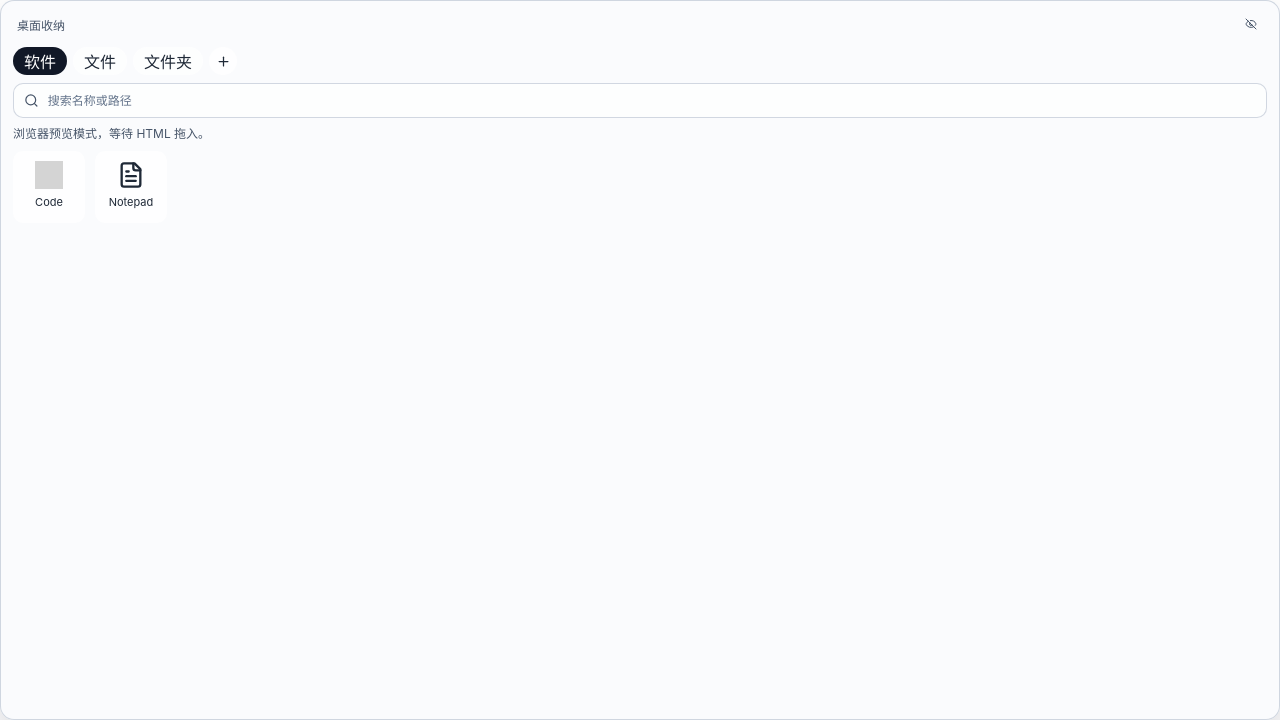
Test: App › 新建分类时用按钮选择类型而不是手动输入类型
Later steps or results of the test are not shown.
Click the button named "新增分类" at point(223, 61), box [209,47,237,75]
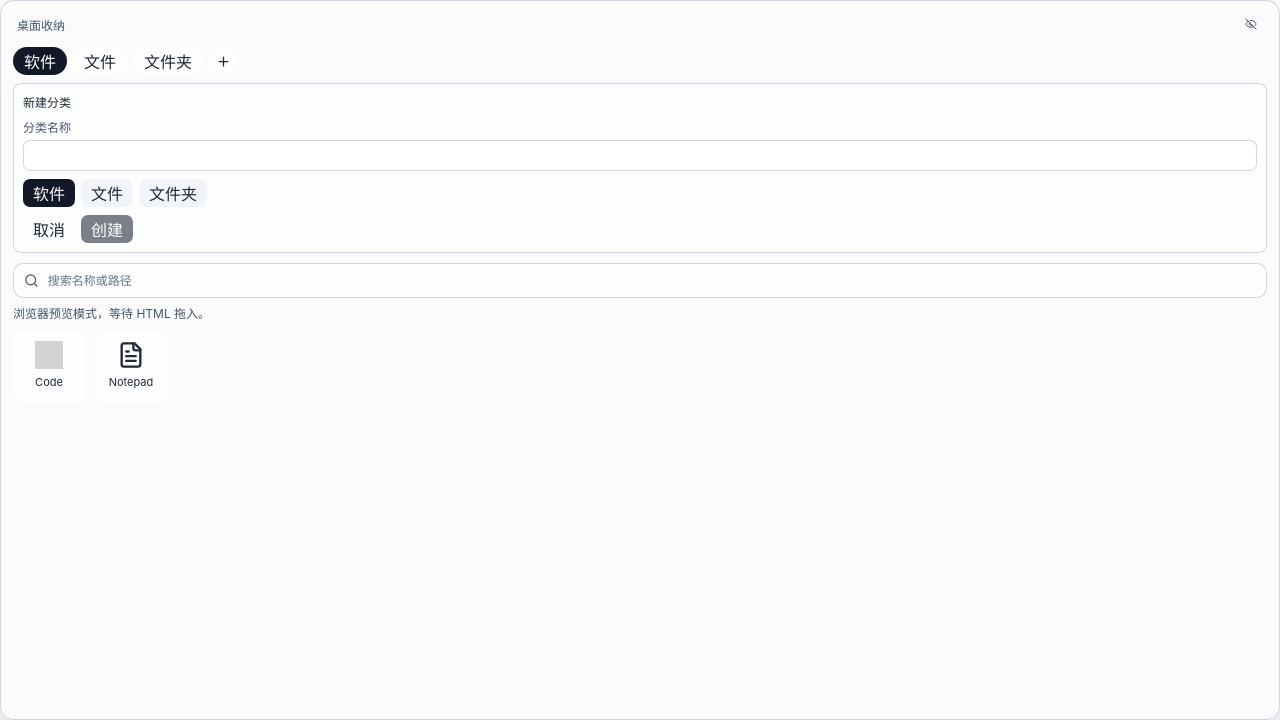
Now the dialog "新建分类" is shown, box [13,83,1267,253]
